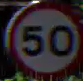Speed limit: (6, 3, 82, 75)
